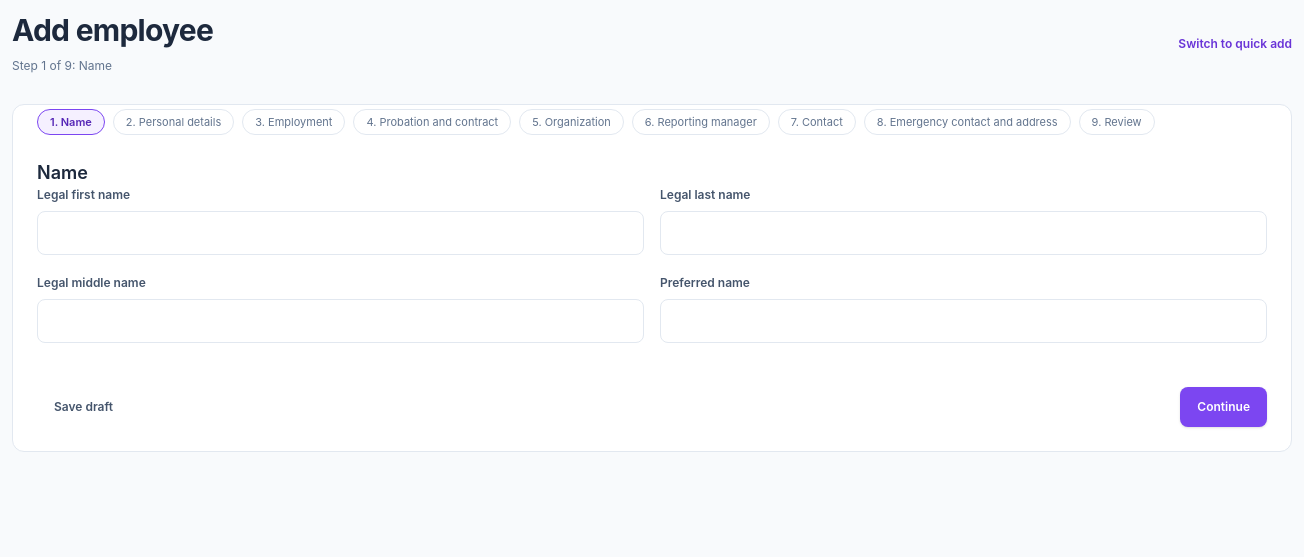
Test: Employee create wizard › blocks a step until it is valid and then advances
This screenshot has width=1304, height=557.
Expected: the heading "Name" is shown, [37, 162, 88, 183]
Click the button "Continue": point(1224, 407) [1180, 387, 1267, 427]
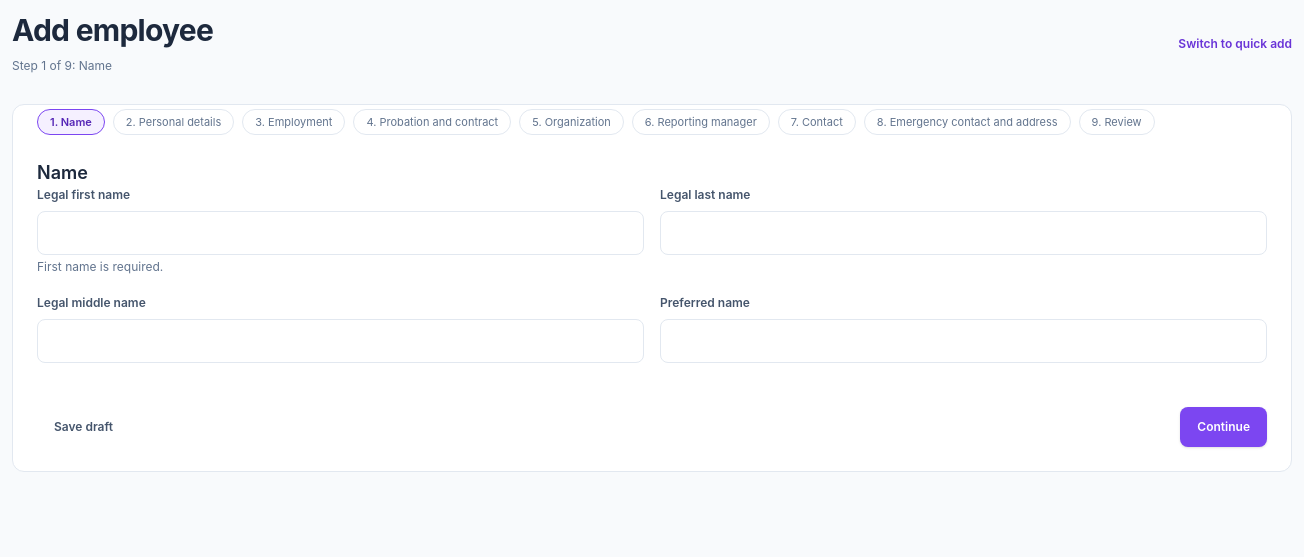
Expected: the heading "Name" is shown, [37, 162, 88, 183]
Result: the text "First name is required." is shown at [37, 259, 163, 274]
In the field labelled "Legal first name": point(340, 233) [37, 211, 644, 255], type "Riya"
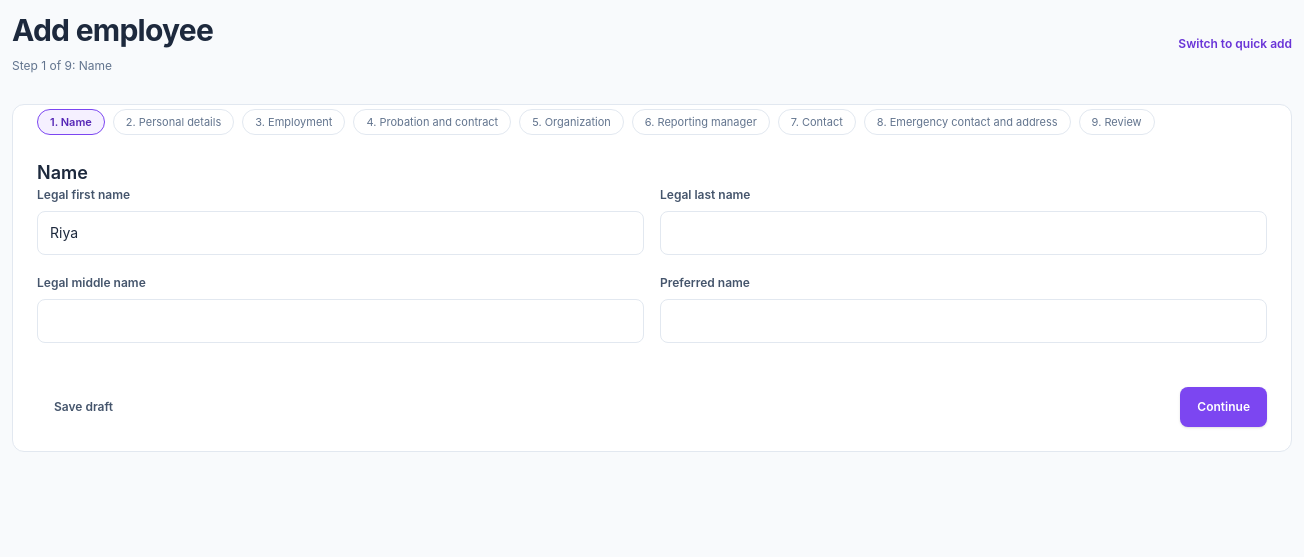
Click the button "Continue": point(1224, 407) [1180, 387, 1267, 427]
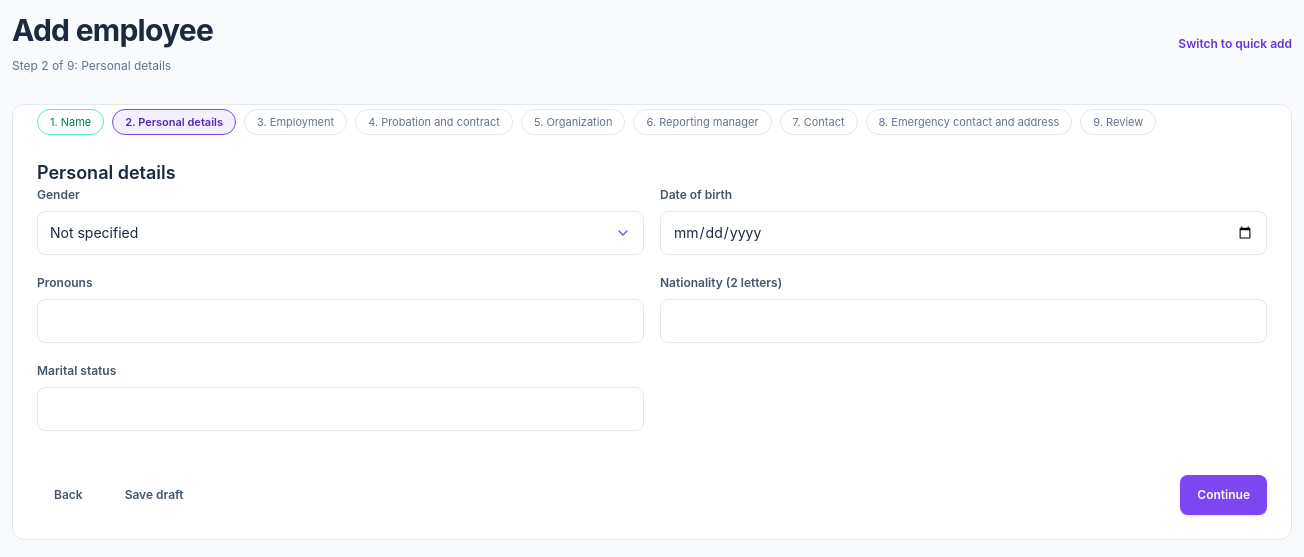
Result: the heading "Personal details" is shown at [37, 162, 176, 183]
Result: the text "Step 2 of 9: Personal details" is shown at [12, 58, 171, 73]
